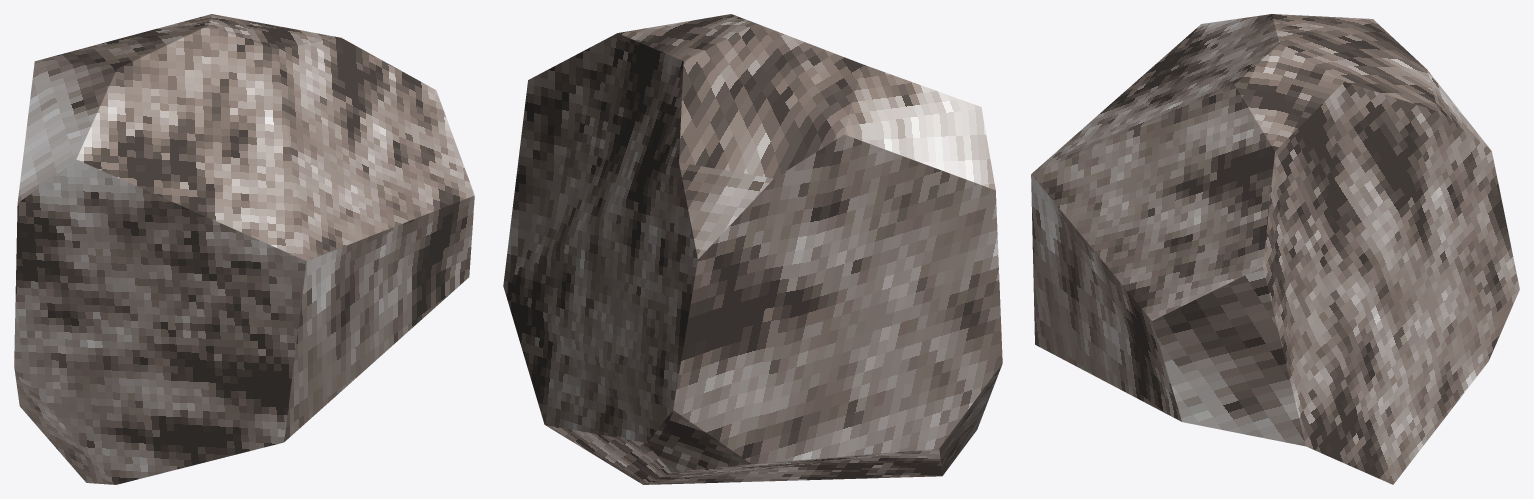
Rendered from rock_0.fbx.
3 renders of one model, left to right at view 1: azimuth 30°, elevation 25°; view 2: azimuth 150°, elevation 25°; view 3: azimuth 270°, elevation 25°, orthographic. The views are drawn at different scales.
Visible parts, largest first — view 1: rock_0_LOD0; view 2: rock_0_LOD0; view 3: rock_0_LOD0.
Boxes of the visible parts, x1,y1,x2,y2 form: rock_0_LOD0: [14, 14, 474, 484]; rock_0_LOD0: [503, 14, 1002, 484]; rock_0_LOD0: [1031, 14, 1519, 484].
Size of what is drawn, in the model's own units: 132 by 118 by 127.
